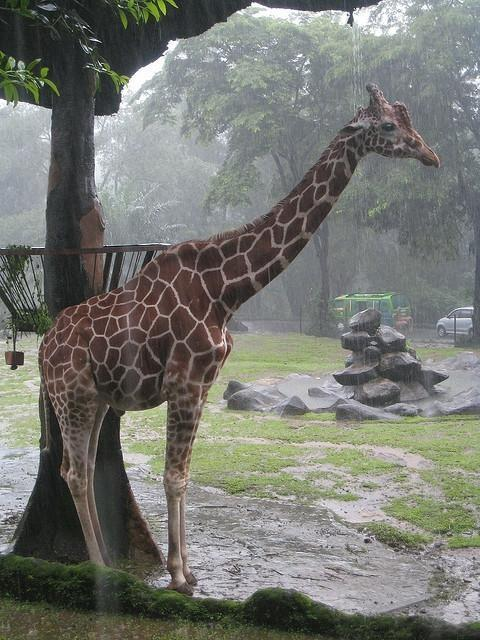car: (436, 306, 474, 339)
